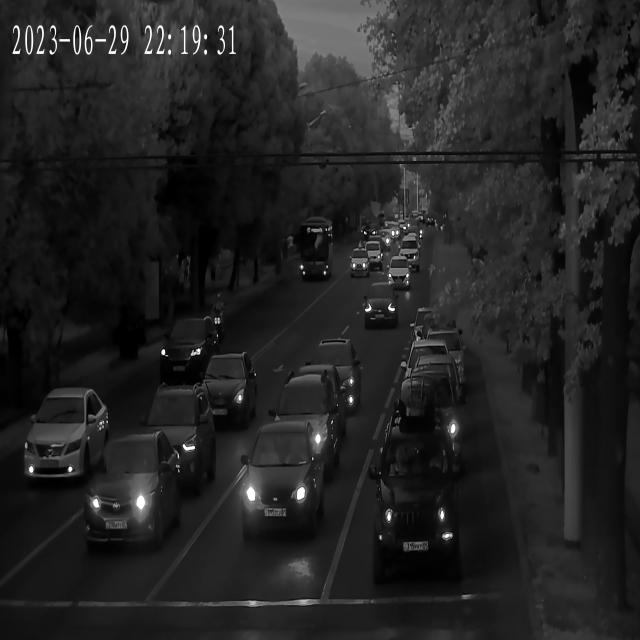Bus: (288, 218, 334, 284)
Car: (374, 393, 464, 595), (78, 434, 180, 553), (237, 427, 322, 537), (23, 387, 110, 488), (134, 388, 218, 492), (388, 373, 466, 479), (264, 376, 340, 481), (185, 351, 256, 425), (296, 340, 362, 410), (162, 312, 232, 377), (282, 365, 349, 426), (402, 360, 464, 418), (401, 339, 459, 388), (420, 331, 467, 373), (362, 284, 400, 326), (413, 308, 450, 345), (385, 262, 414, 292), (396, 239, 420, 265), (397, 252, 421, 276), (349, 253, 371, 277), (363, 243, 382, 261), (372, 233, 391, 250)
